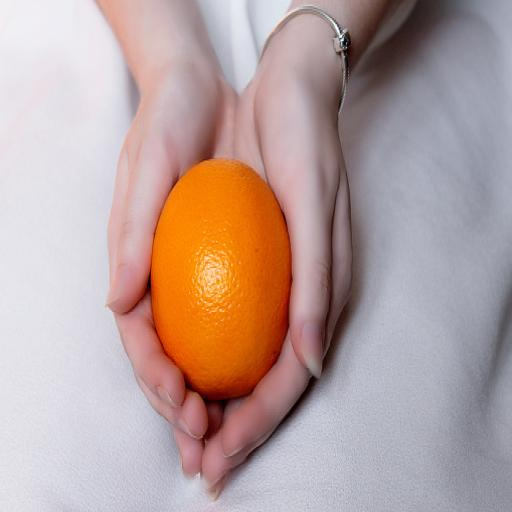orange: (151, 160, 290, 399)
